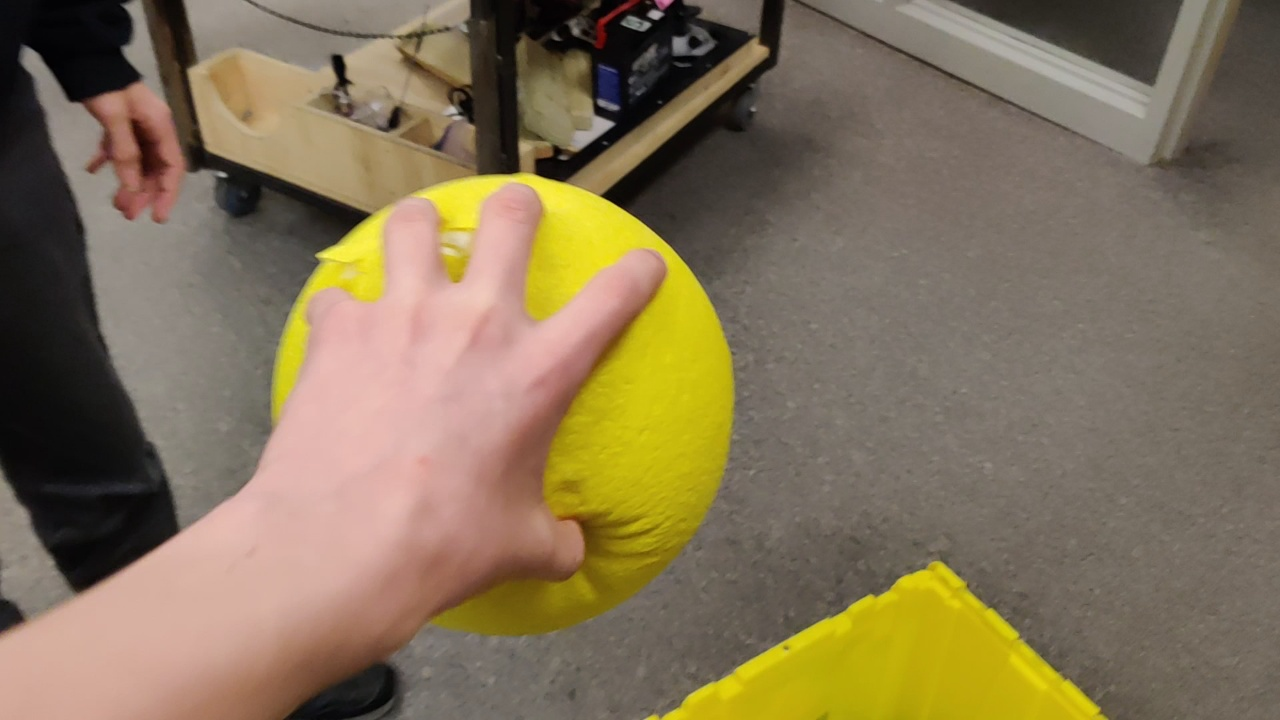Ball: (550, 287, 736, 562)
